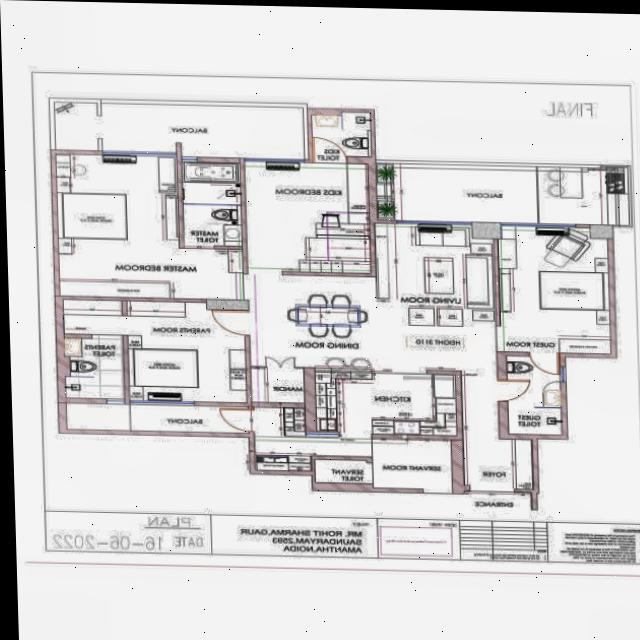room: (54, 154, 246, 301), (60, 299, 250, 403), (499, 223, 609, 356), (242, 162, 372, 272), (374, 223, 499, 329), (246, 273, 376, 370), (99, 103, 306, 160), (376, 165, 539, 223), (315, 373, 457, 434), (66, 403, 250, 433), (539, 166, 631, 224), (182, 161, 243, 248), (507, 354, 560, 435), (371, 438, 453, 488), (65, 336, 124, 400), (255, 407, 311, 471), (312, 112, 372, 157), (55, 102, 99, 151), (251, 367, 305, 403), (315, 459, 368, 483)
